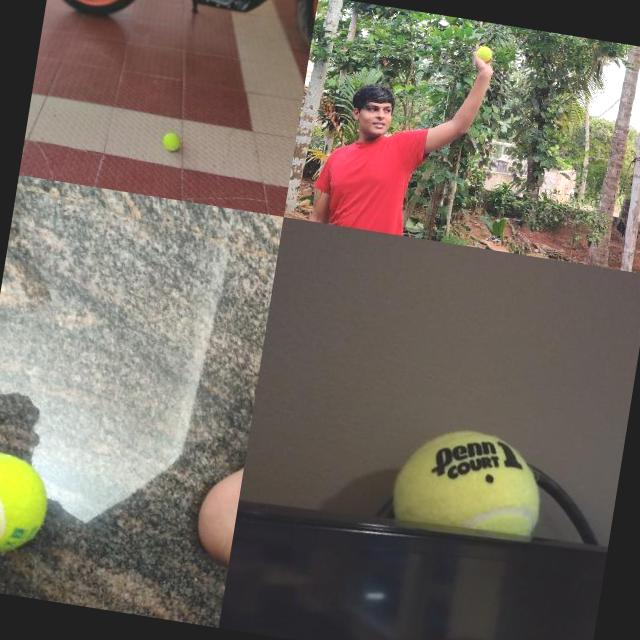Tennis Ball: (388, 418, 552, 536), (0, 448, 56, 559), (162, 132, 182, 152), (476, 46, 492, 62)
